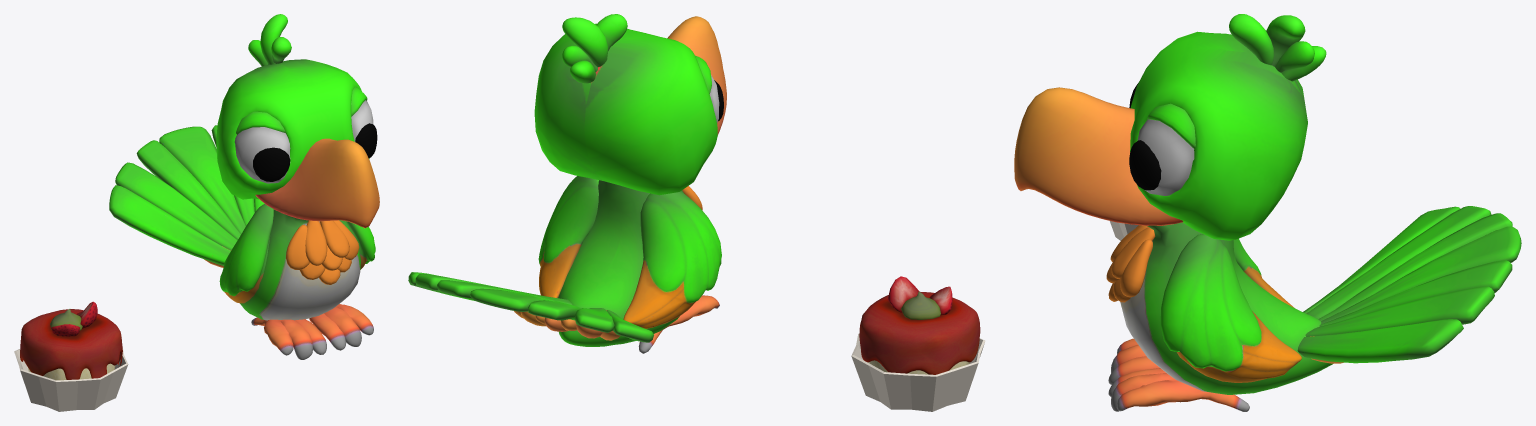
File: _ChirpyWinged_Chirpy Winged_Item.fbx
The picture shows the model from 3 angles, left to right: view 1: azimuth 30°, elevation 25°; view 2: azimuth 150°, elevation 25°; view 3: azimuth 270°, elevation 25°; orthographic projection. The views are drawn at different scales.
Visible parts, largest first — view 1: Vet, BAnh; view 2: Vet, BAnh; view 3: Vet.
Boxes of the visible parts, x1=… form: Vet: x1=109, y1=14, x2=379, y2=359; BAnh: x1=14, y1=301, x2=128, y2=411; Vet: x1=408, y1=14, x2=726, y2=353; BAnh: x1=851, y1=276, x2=985, y2=411; Vet: x1=1014, y1=14, x2=1521, y2=411.
Bounding box in the file's own units: 0.998 × 0.702 × 0.836.
5 materials, 3 textured.
